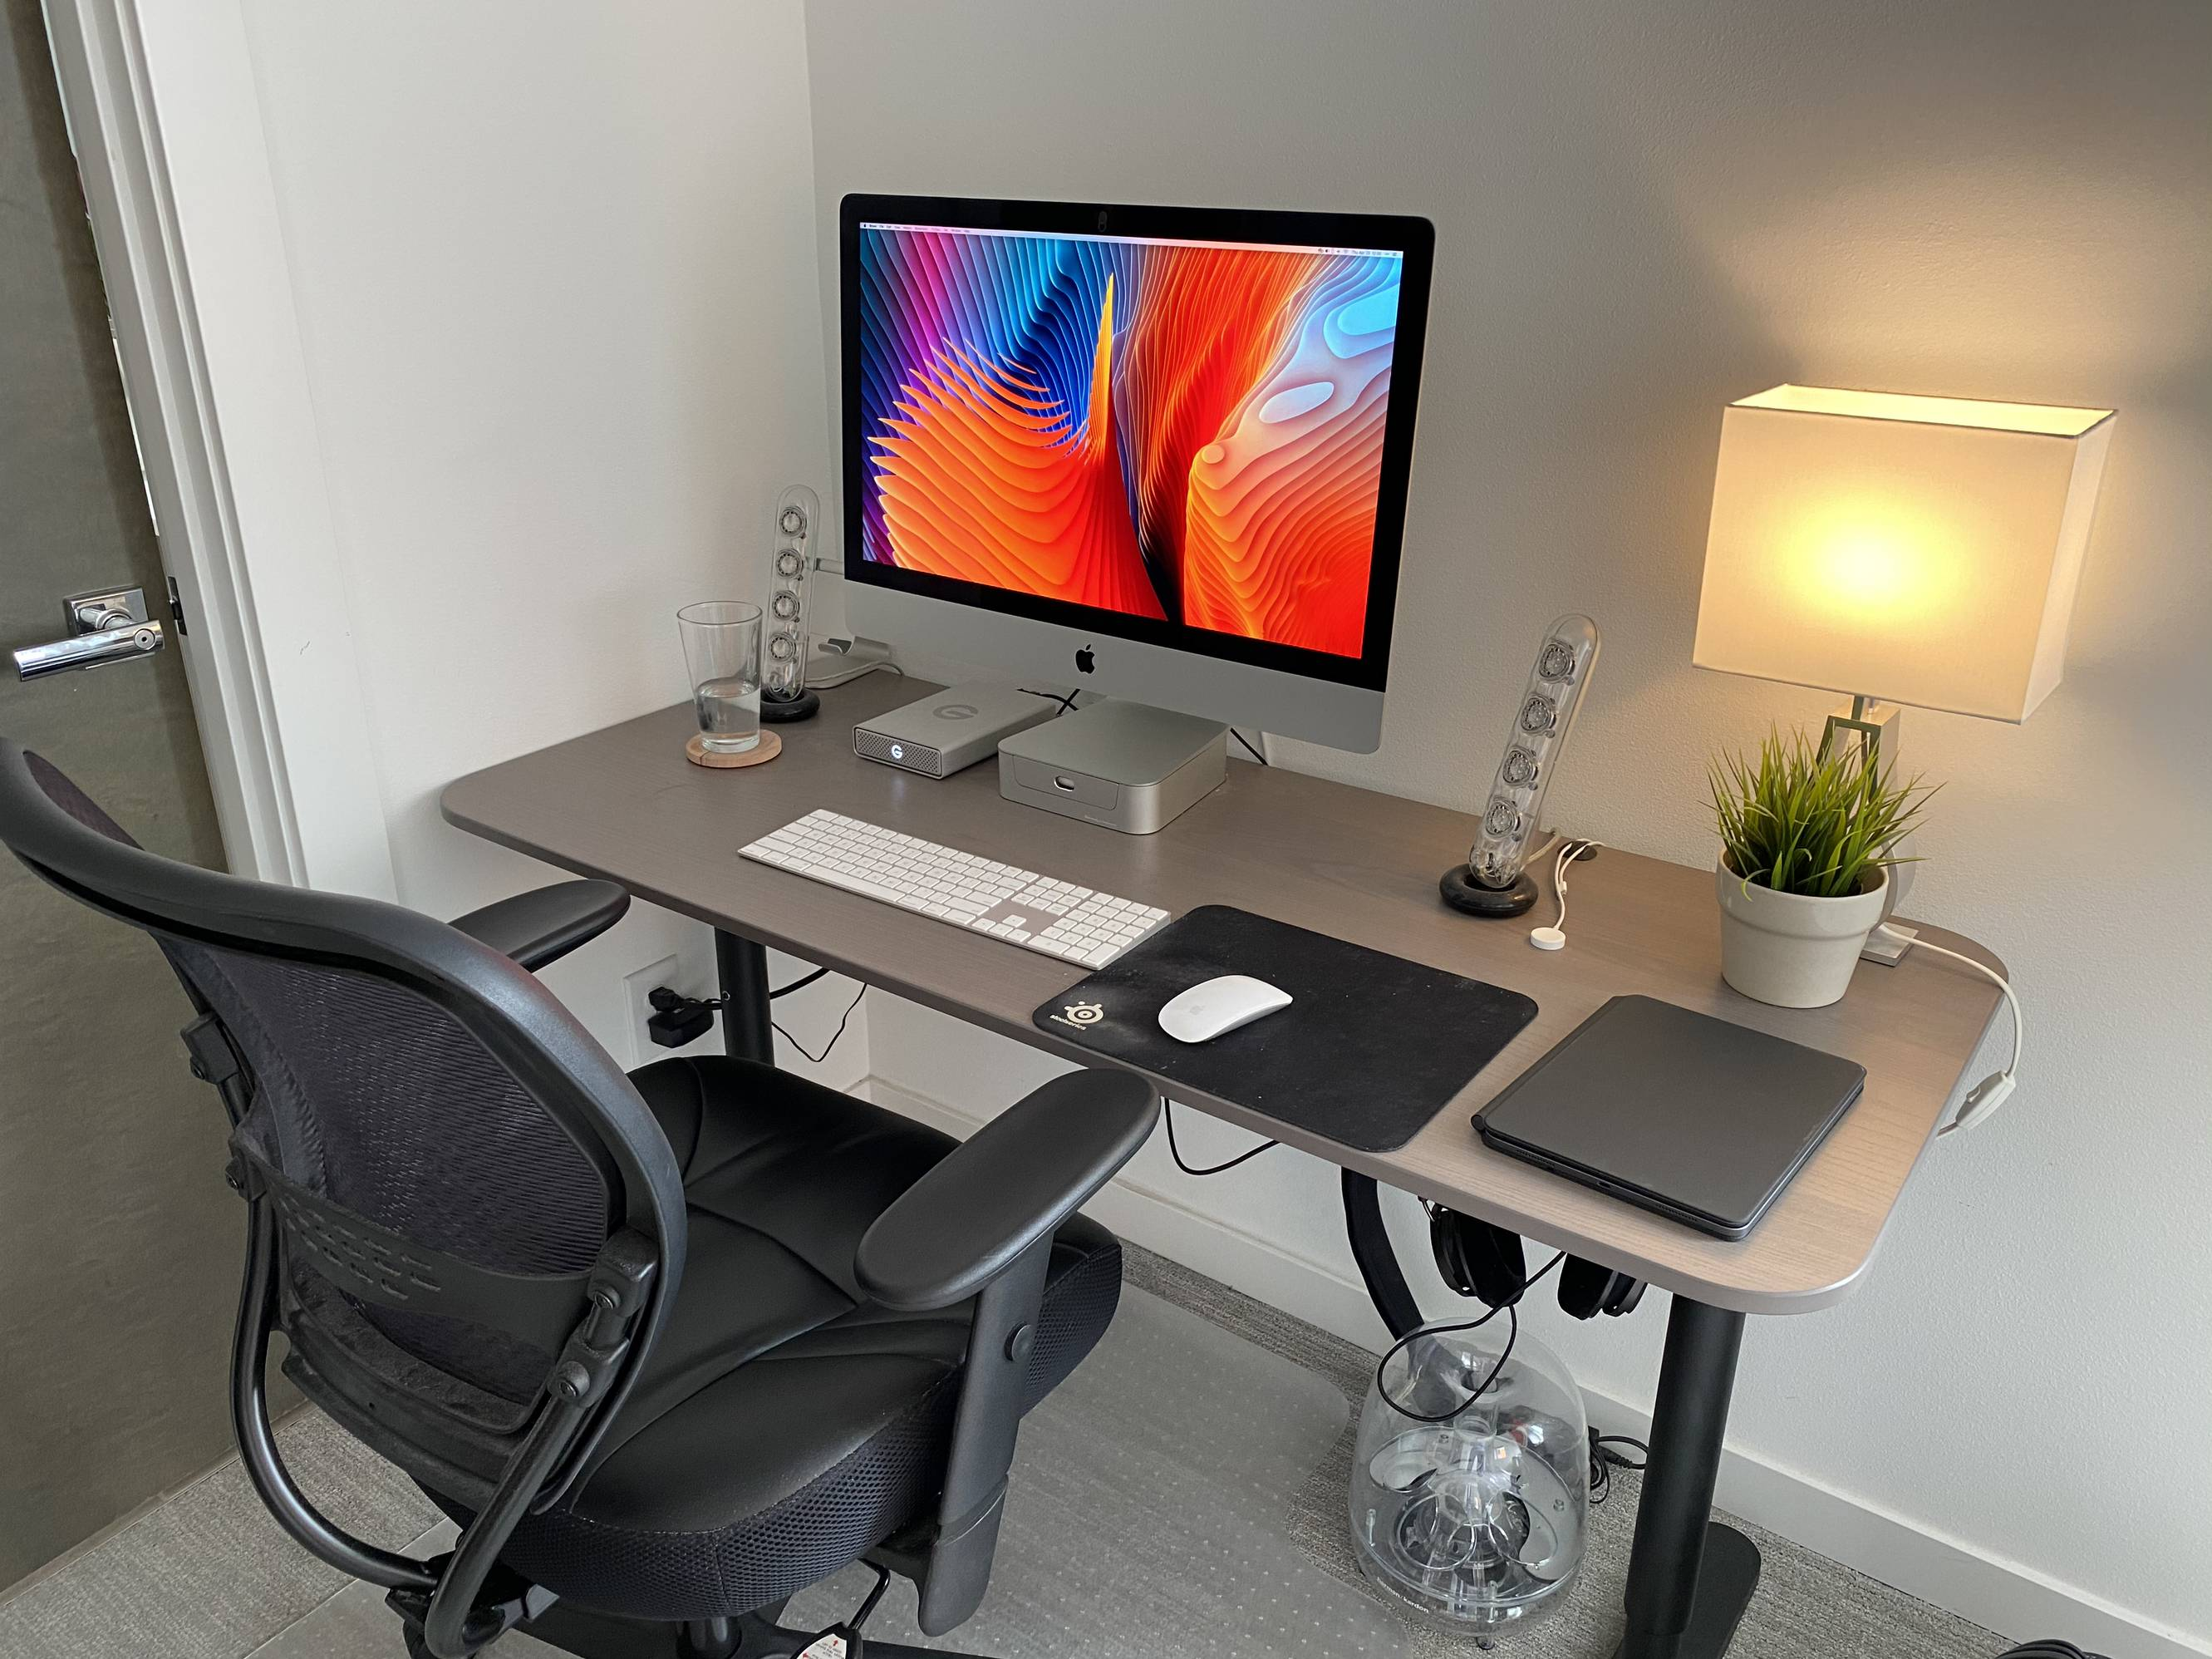Chair (Generic): (0, 720, 1169, 1654)
Cup: (665, 580, 770, 755)
Decoration (Plant): (1670, 716, 1925, 1037)
Desk (Generic): (425, 655, 2047, 1659)
Drink Coaster: (648, 716, 792, 775)
External Speakers (Generic): (1439, 608, 1613, 917), (745, 488, 831, 727)
Headphones: (1343, 1173, 1689, 1424)
Keyboard (Ergonomic): (735, 809, 1188, 988)
Lamp (Desk): (1637, 349, 2135, 1004)
Monitor (iMac): (808, 176, 1474, 782)
Mouse (Ergonomic): (1127, 950, 1296, 1058)
Mousepad (Gaming): (1029, 889, 1541, 1150)
